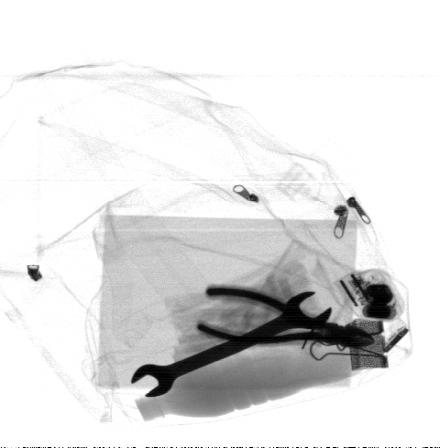Pliers: (195, 287, 379, 348)
Wrench: (131, 290, 333, 399)
